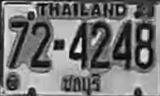2: (90, 20, 110, 68), (30, 21, 50, 68)
4: (112, 20, 131, 70), (68, 20, 87, 66)
7: (6, 20, 28, 68)
8: (134, 22, 154, 70)
CBI: (59, 72, 110, 96)
